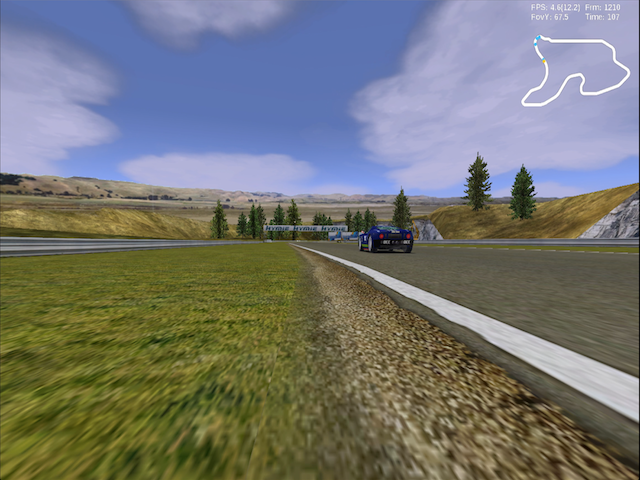FMC_GT4: (357, 226, 414, 255)
